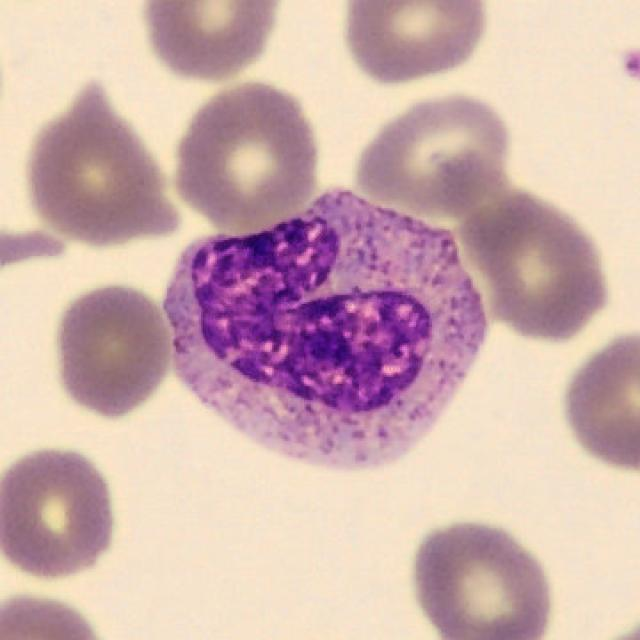Bastonete: (164, 188, 489, 473)
